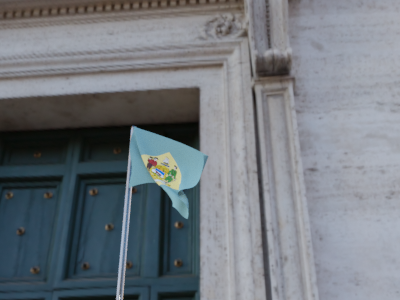Delaware flag: (130, 129, 209, 220)
